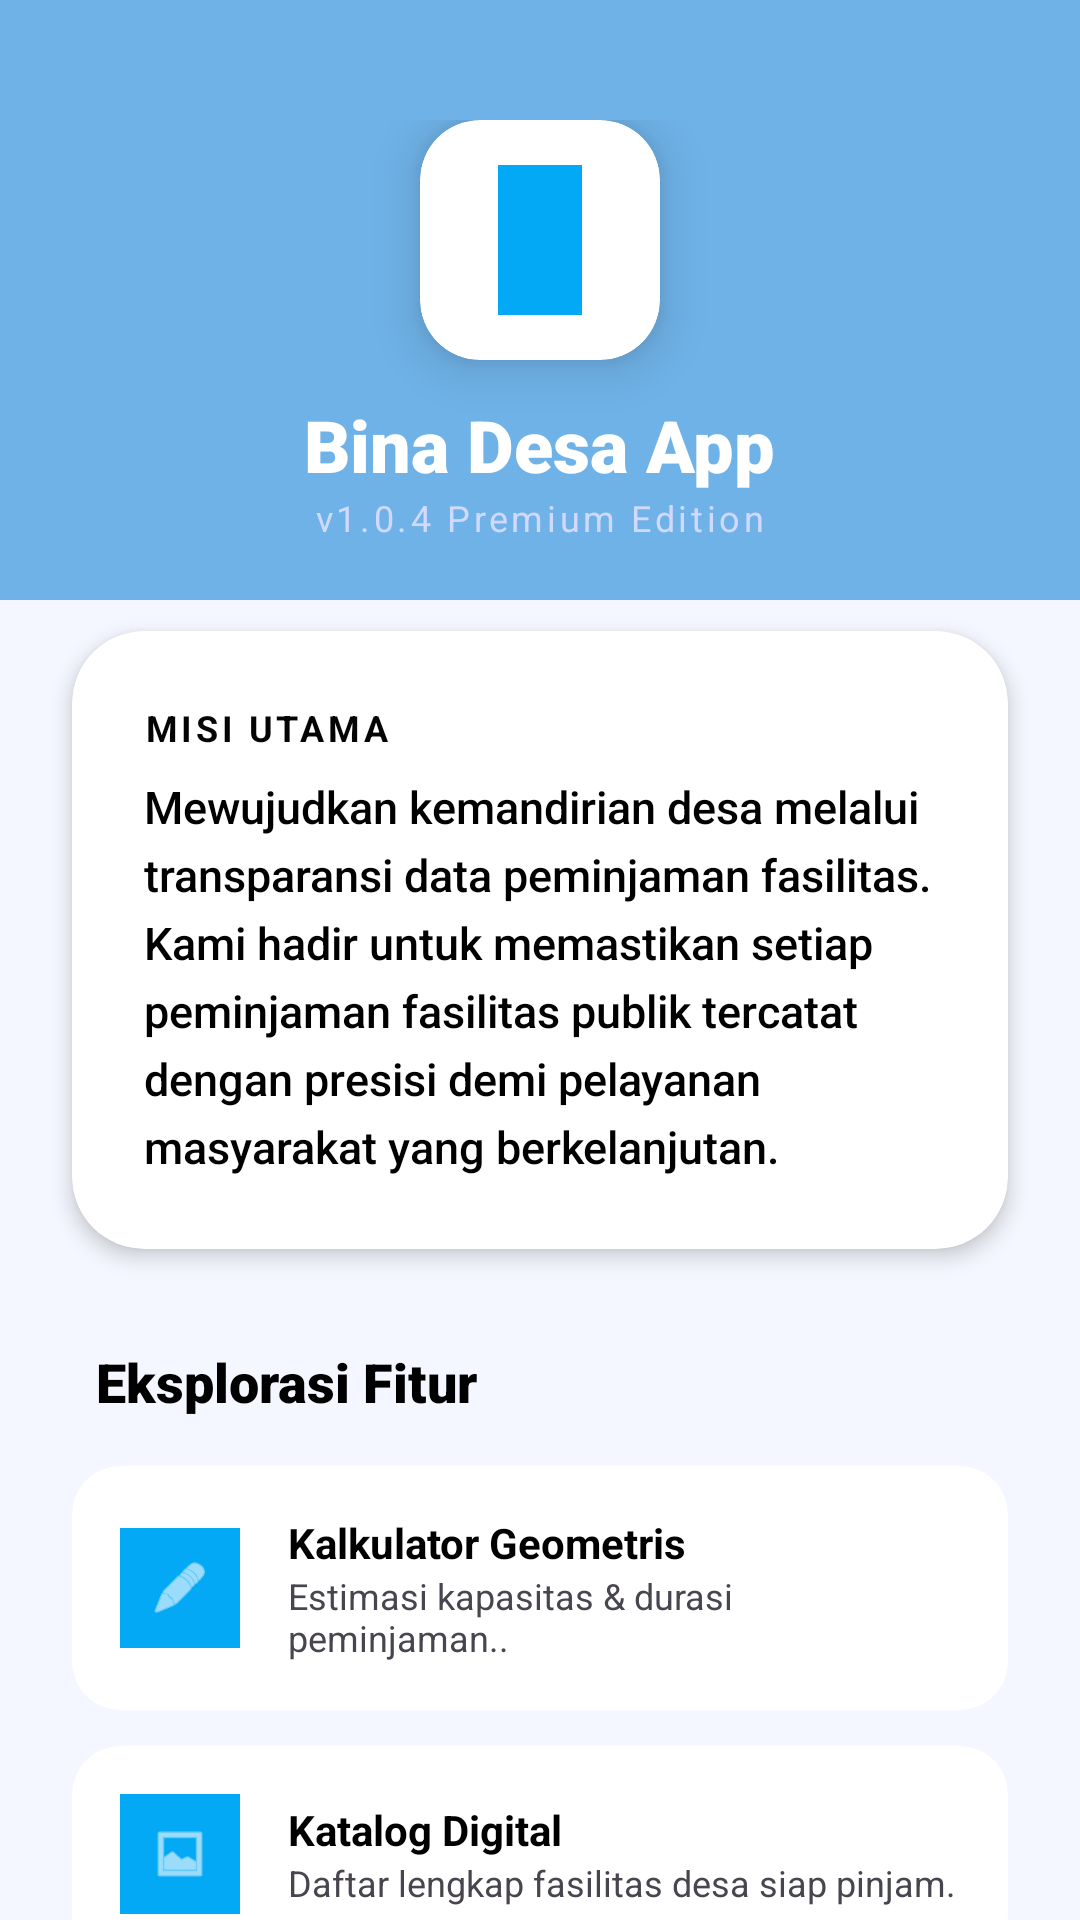

Screen size 1080px x 1920px. Icon name, then its box in pixels as (x1, y1, x2, y2):
edit: (120, 1528, 240, 1648)
gallery: (120, 1794, 240, 1914)
